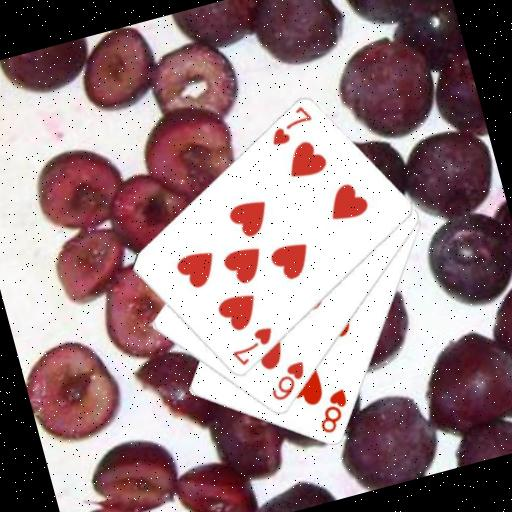6H: (262, 357, 313, 404)
7H: (223, 322, 280, 370), (261, 101, 318, 149)
8H: (309, 385, 356, 438)
